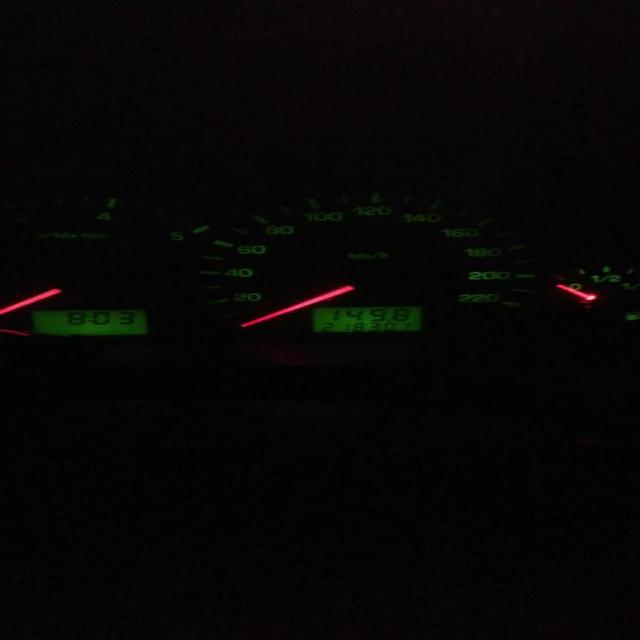odometer: (312, 306, 423, 333)
